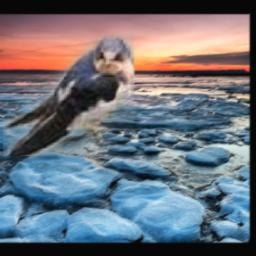Swallow: (4, 35, 135, 157)
